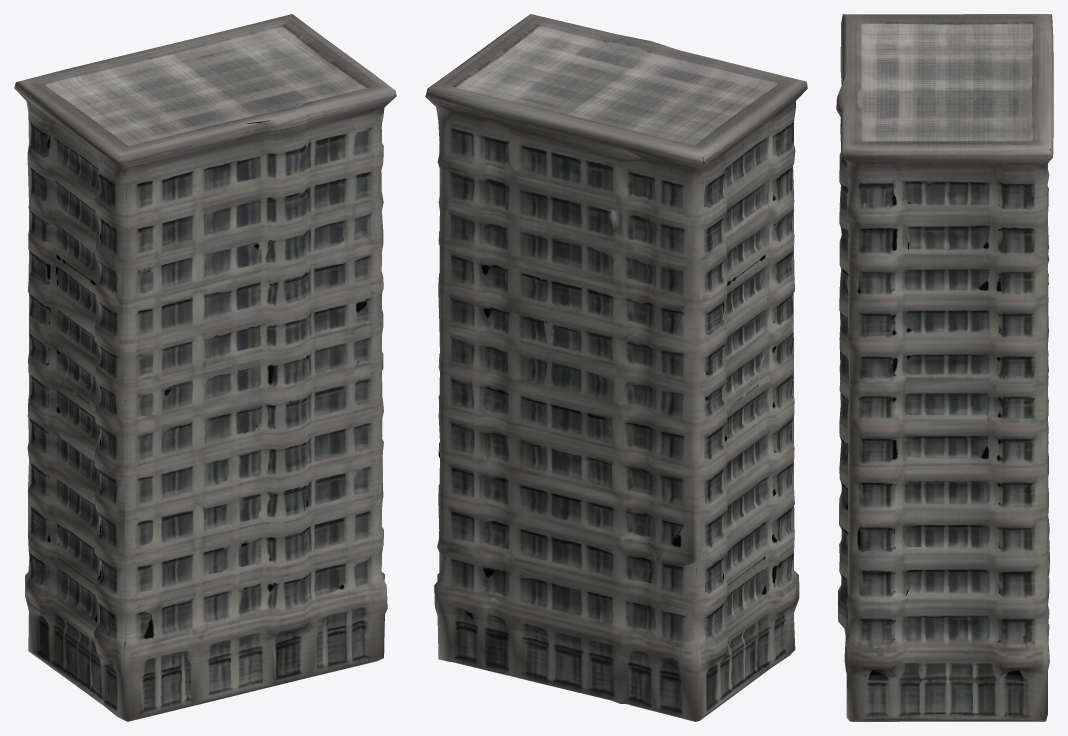
The model's file is reliance_building.glb.
The picture shows the model from 3 angles, left to right: view 1: azimuth 30°, elevation 25°; view 2: azimuth 150°, elevation 25°; view 3: azimuth 270°, elevation 25°; orthographic projection.
Visible parts, largest first — view 1: reliance_building; view 2: reliance_building; view 3: reliance_building.
Part boxes in pixels (x1=…): reliance_building: x1=14, y1=14, x2=396, y2=721; reliance_building: x1=425, y1=14, x2=807, y2=721; reliance_building: x1=836, y1=14, x2=1053, y2=721.
Size of the model in its own units: 27 by 53 by 18.
1 material, 1 textured.
